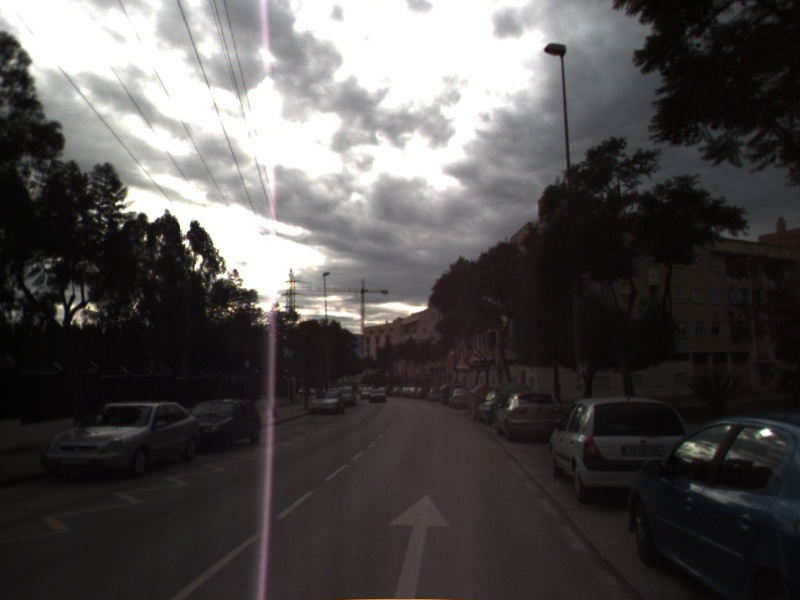STRAIGHT: (387, 491, 452, 600)
